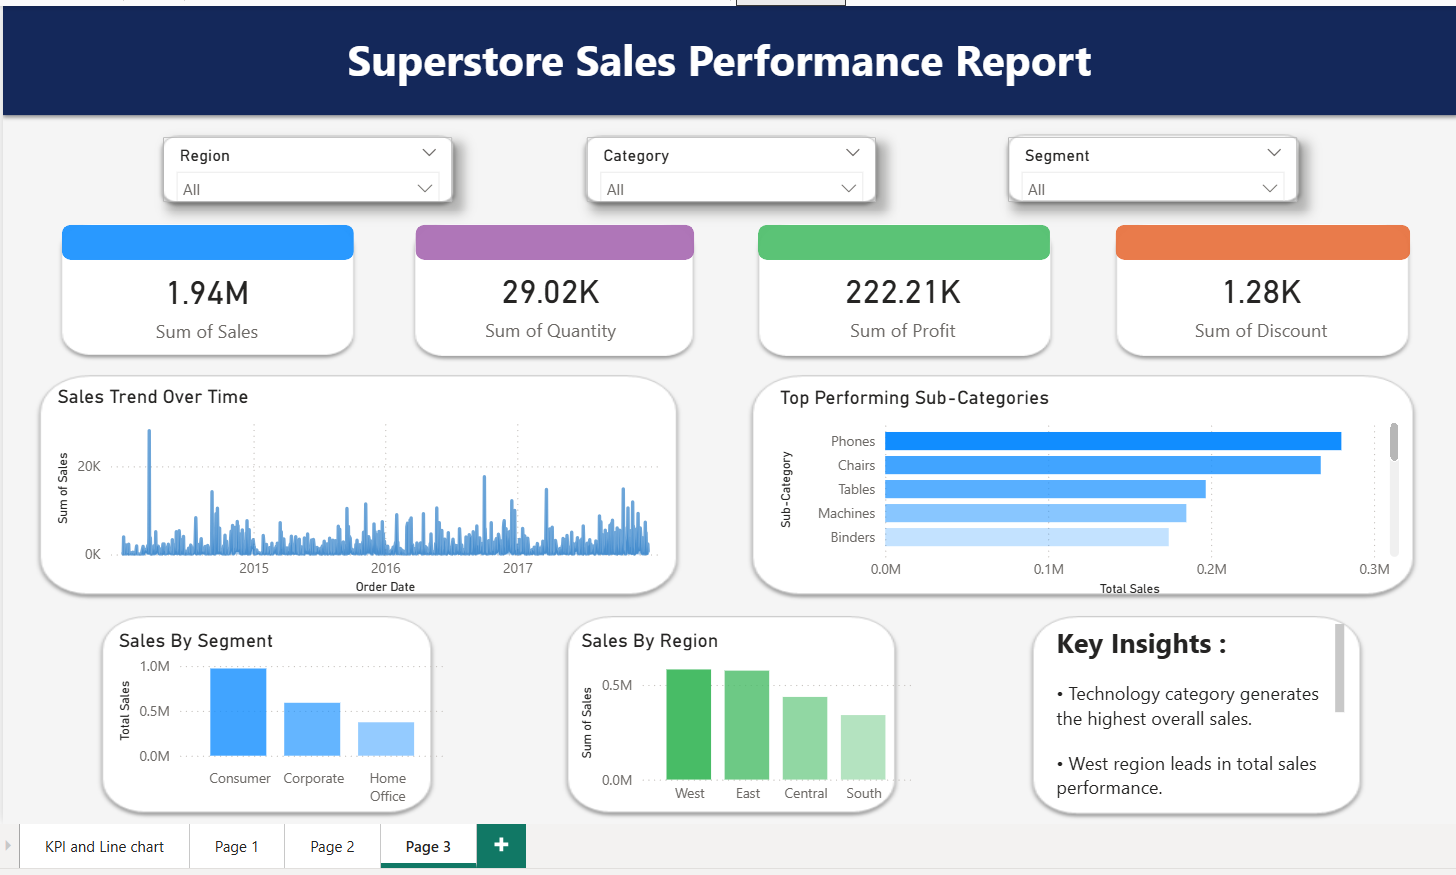

What the dashboard file says about the page in this screenshot:
{"tool":"powerbi","page":{"name":"Page 3","canvas":[1280,720],"ordinal":3},"visuals":[{"type":"card","title":"Total Sales","fields":{"Values":["Sum(Sample - Superstore.Sales)"]},"box":[44,210.7,271.4,100],"z":0},{"type":"card","fields":{"Values":["Sum(Sample - Superstore.Profit)"]},"box":[653.6,192.9,277.4,135.7],"z":1000},{"type":"card","fields":{"Values":["Sum(Sample - Superstore.Quantity)"]},"box":[354.8,192.9,253.6,135.7],"z":2000},{"type":"card","fields":{"Values":["Sum(Sample - Superstore.Discount)"]},"box":[981,192.9,252.4,135.7],"z":3000},{"type":"lineChart","title":"Sales Trend Over Time","fields":{"Category":["Sample - Superstore.Order Date"],"Y":["Sum(Sample - Superstore.Sales)"]},"box":[42.9,333.3,542.9,189.3],"z":4000},{"type":"columnChart","title":"Sales By Region","fields":{"Category":["Sample - Superstore.Region"],"Y":["Sum(Sample - Superstore.Sales)"]},"box":[503.6,547.6,300,163.1],"z":5000},{"type":"clusteredBarChart","title":"Top Performing Sub-Categories","fields":{"Category":["Sample - Superstore.Sub-Category"],"Y":["Sample - Superstore.Total Sales"]},"box":[678.6,334.5,554.8,189.3],"z":6000},{"type":"columnChart","title":"Sales By Segment","fields":{"Category":["Sample - Superstore.Segment"],"Y":["Sample - Superstore.Total Sales"]},"box":[96.4,547.6,298.8,163.1],"z":7000},{"type":"slicer","title":"Region","fields":{"Values":["Sample - Superstore.Region"]},"box":[140.5,115.5,254.8,57.1],"z":8000},{"type":"slicer","fields":{"Values":["Sample - Superstore.Category"]},"box":[513.1,115.5,254.8,57.1],"z":9000},{"type":"slicer","fields":{"Values":["Sample - Superstore.Segment"]},"box":[884.5,115.5,254.8,57.1],"z":10000},{"type":"shape","box":[51.2,192.9,257.1,31],"z":11000},{"type":"shape","box":[664.3,192.9,257.1,31],"z":12000},{"type":"shape","box":[978.6,192.9,259.5,31],"z":13000},{"type":"shape","box":[363.1,192.9,245.2,31],"z":14000},{"type":"textbox","box":[921.4,539.3,263.1,171.4],"z":16000},{"type":"textbox","box":[297.6,16.7,681,60.7],"z":16001}]}

Visuals, with their boxes on the page's 1280x720 design canvas (x1, y1, x2, y2). These are canvas units, not pixel positions in the 1456x875 screenshot, which may show the page scaled, cropped or inside an application window:
"Total Sales" card: (44,211,315,311)
card - Sum(Sample - Superstore.Profit): (654,193,931,329)
card - Sum(Sample - Superstore.Quantity): (355,193,608,329)
card - Sum(Sample - Superstore.Discount): (981,193,1233,329)
"Sales Trend Over Time" lineChart: (43,333,586,523)
"Sales By Region" columnChart: (504,548,804,711)
"Top Performing Sub-Categories" clusteredBarChart: (679,334,1233,524)
"Sales By Segment" columnChart: (96,548,395,711)
"Region" slicer: (140,116,395,173)
slicer - Sample - Superstore.Category: (513,116,768,173)
slicer - Sample - Superstore.Segment: (884,116,1139,173)
shape: (51,193,308,224)
shape: (664,193,921,224)
shape: (979,193,1238,224)
shape: (363,193,608,224)
textbox: (921,539,1184,711)
textbox: (298,17,979,77)
